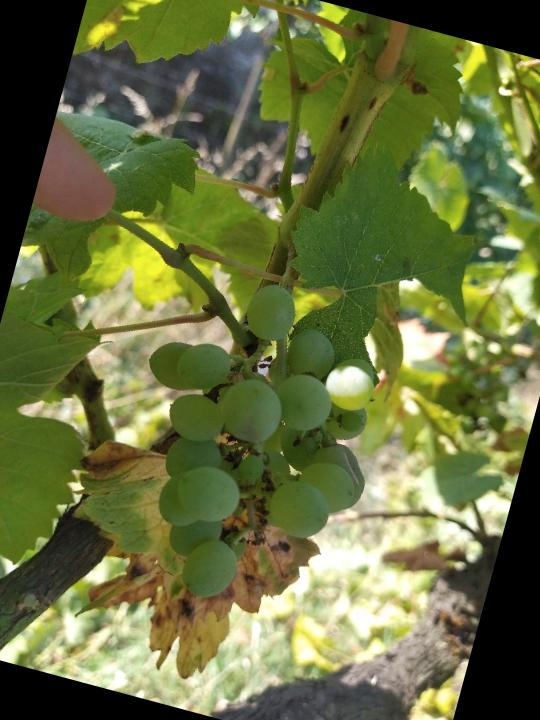grape: (89, 253, 414, 638)
